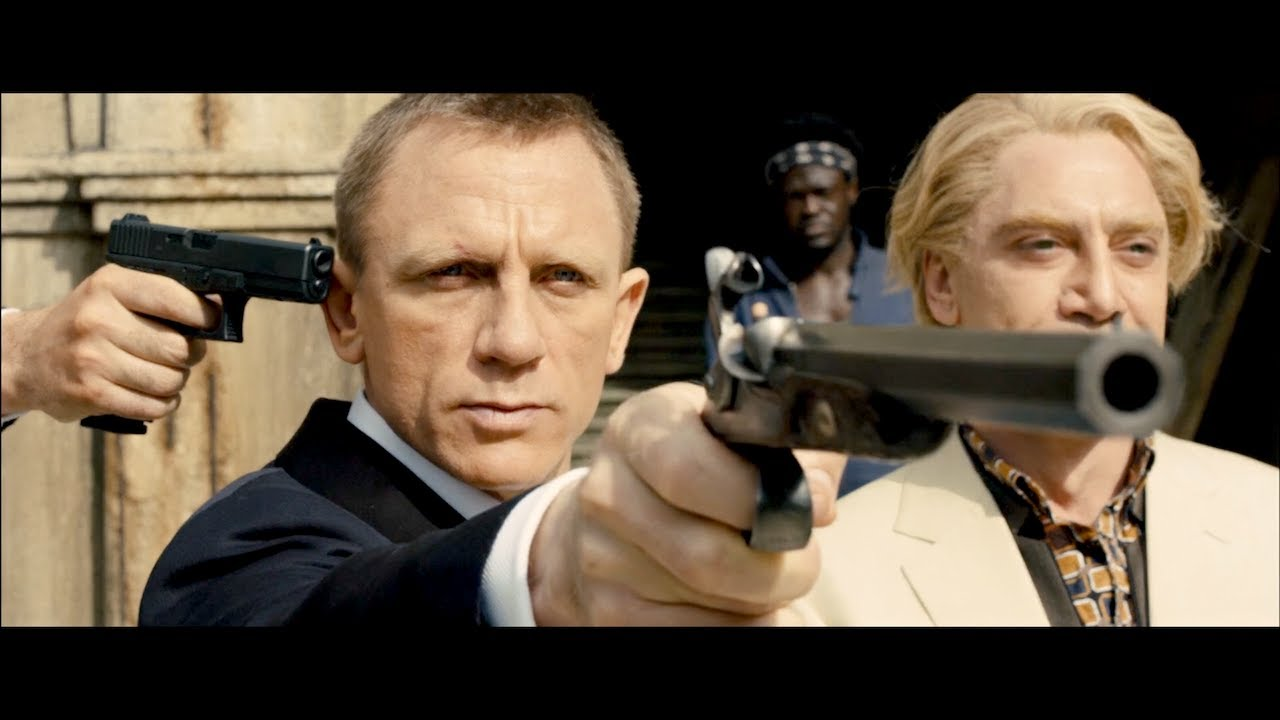gun: (688, 243, 1192, 557), (74, 206, 339, 442)
